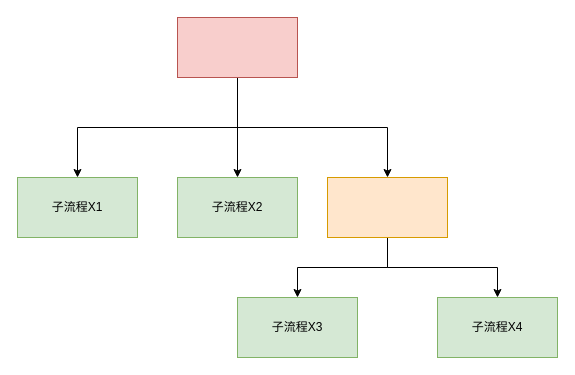
This 575x375 diagram has some shape labels left out. The box of each missing label's shape, as (x1, y1, x2, y2) in pixels:
大流程X: (176, 16, 298, 78)
步骤和: (326, 176, 448, 238)
